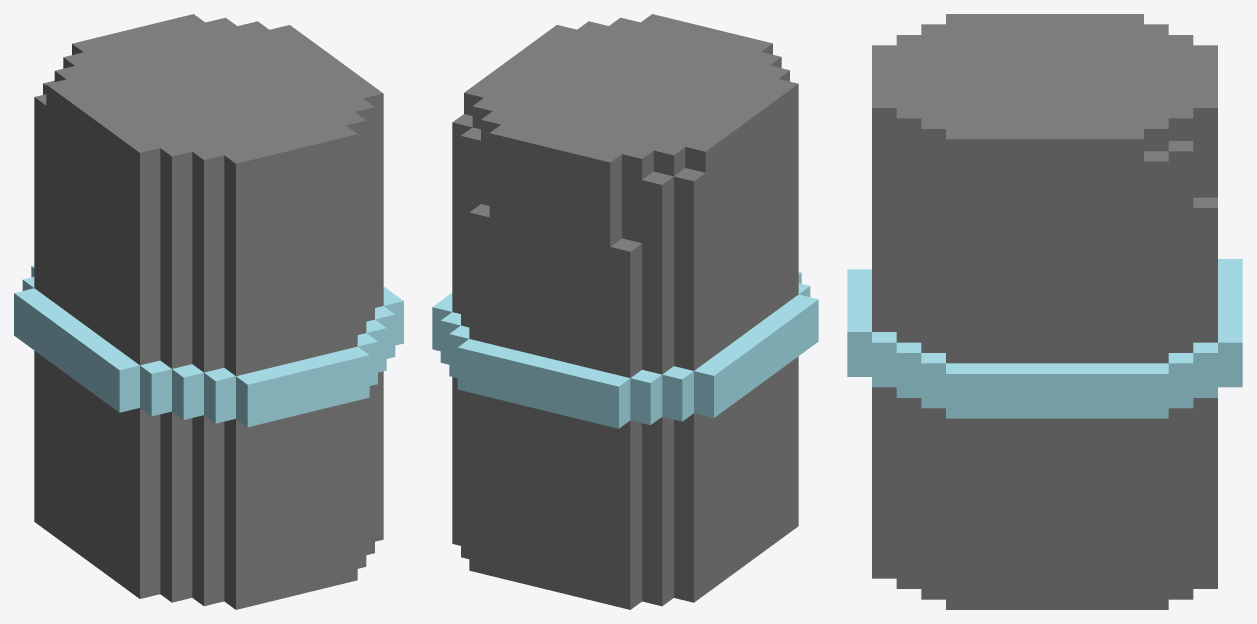
File: SM_ForgeGolem_Left_Lower_Leg.fbx
3 renders of one model, left to right at view 1: azimuth 30°, elevation 25°; view 2: azimuth 150°, elevation 25°; view 3: azimuth 270°, elevation 25°, orthographic. The views are drawn at different scales.
Parts seen in each view (by area): view 1: SM_ForgeGolem_Left_Lower_Leg; view 2: SM_ForgeGolem_Left_Lower_Leg; view 3: SM_ForgeGolem_Left_Lower_Leg.
Part boxes in pixels (left/top/right/bottom): SM_ForgeGolem_Left_Lower_Leg: left=14, top=14, right=403, bottom=609; SM_ForgeGolem_Left_Lower_Leg: left=432, top=14, right=818, bottom=609; SM_ForgeGolem_Left_Lower_Leg: left=847, top=14, right=1242, bottom=609.
Size of the model in its own units: 140 by 210 by 160.
